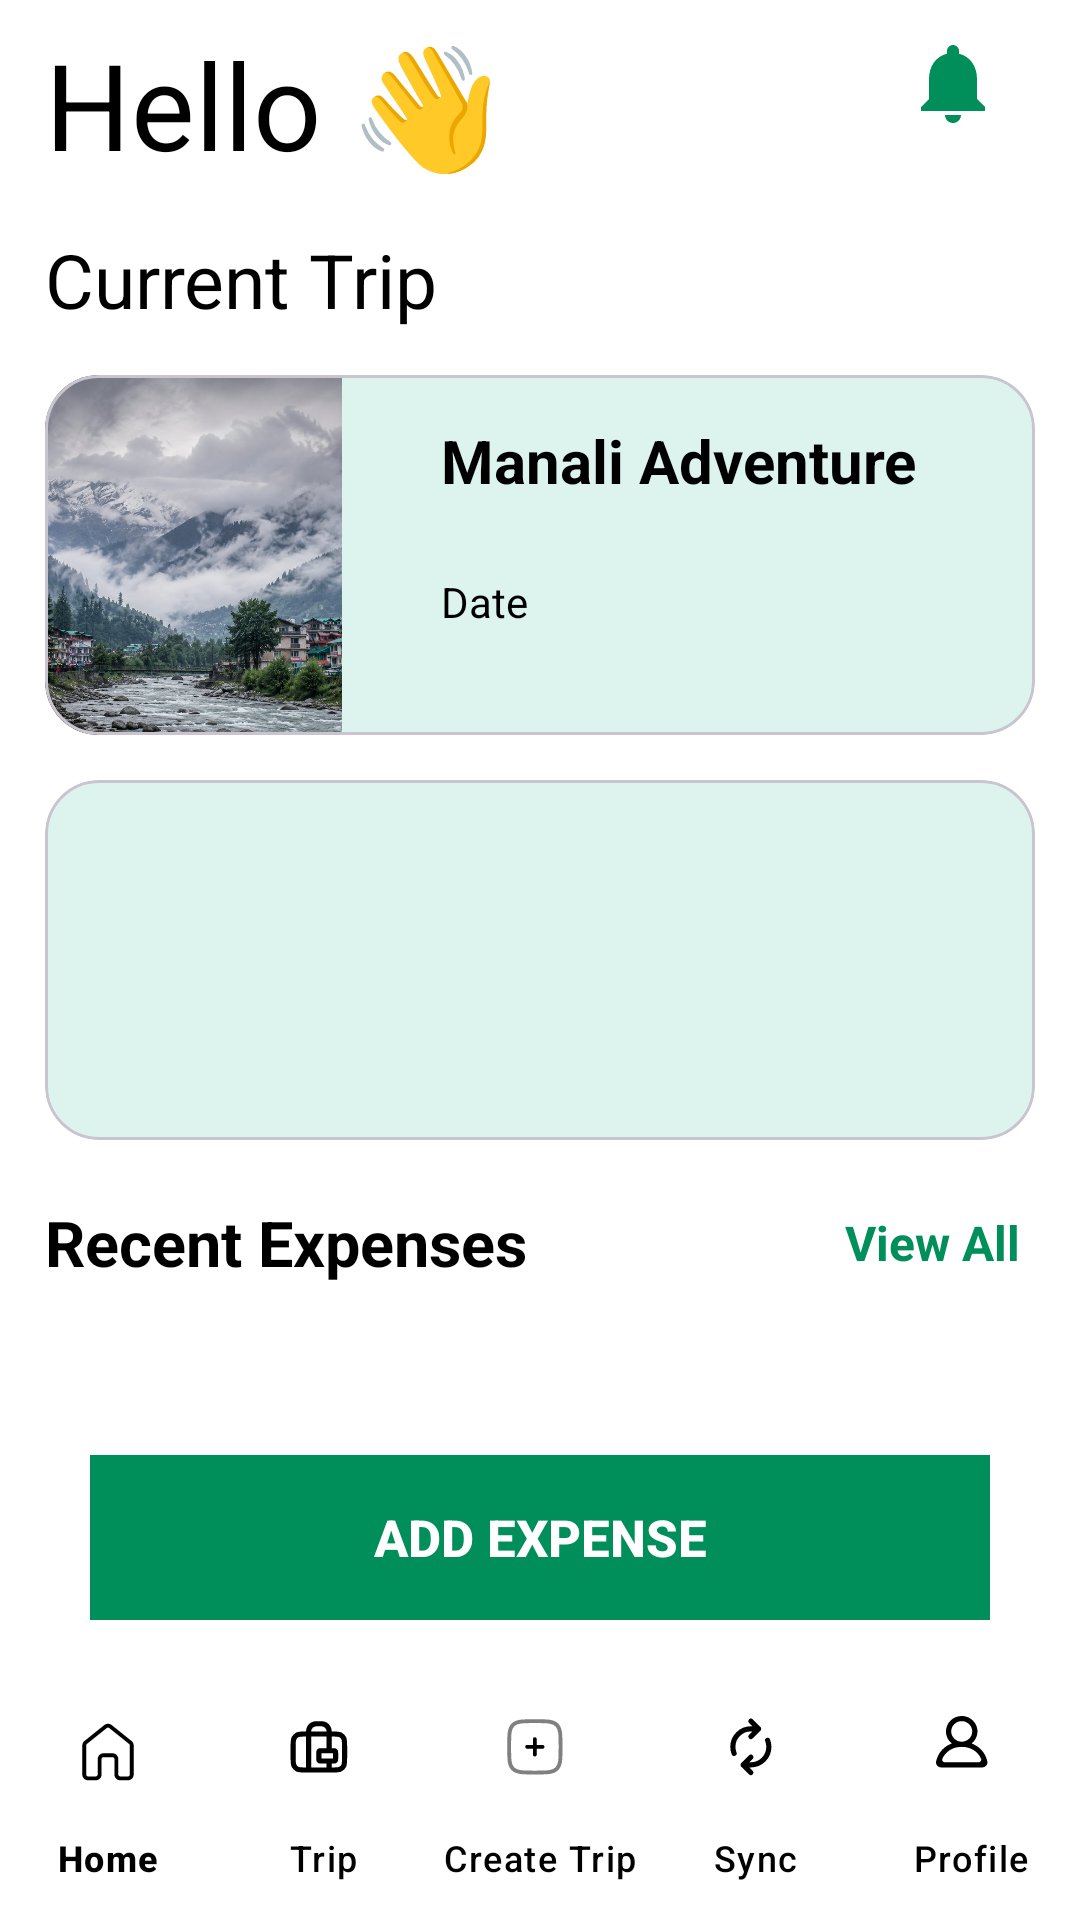

Screen size 1080x1920. Icon name, then its box in pixels as (x1, y1, x2, y2):
Notification: (921, 45, 985, 123)
